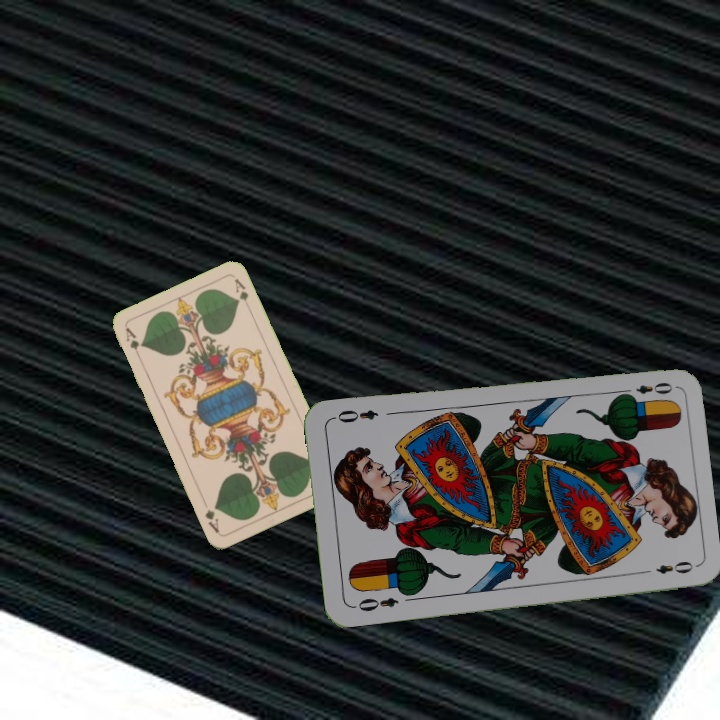EO: (616, 378, 676, 400), (349, 593, 401, 614)
GA: (121, 323, 144, 363)
